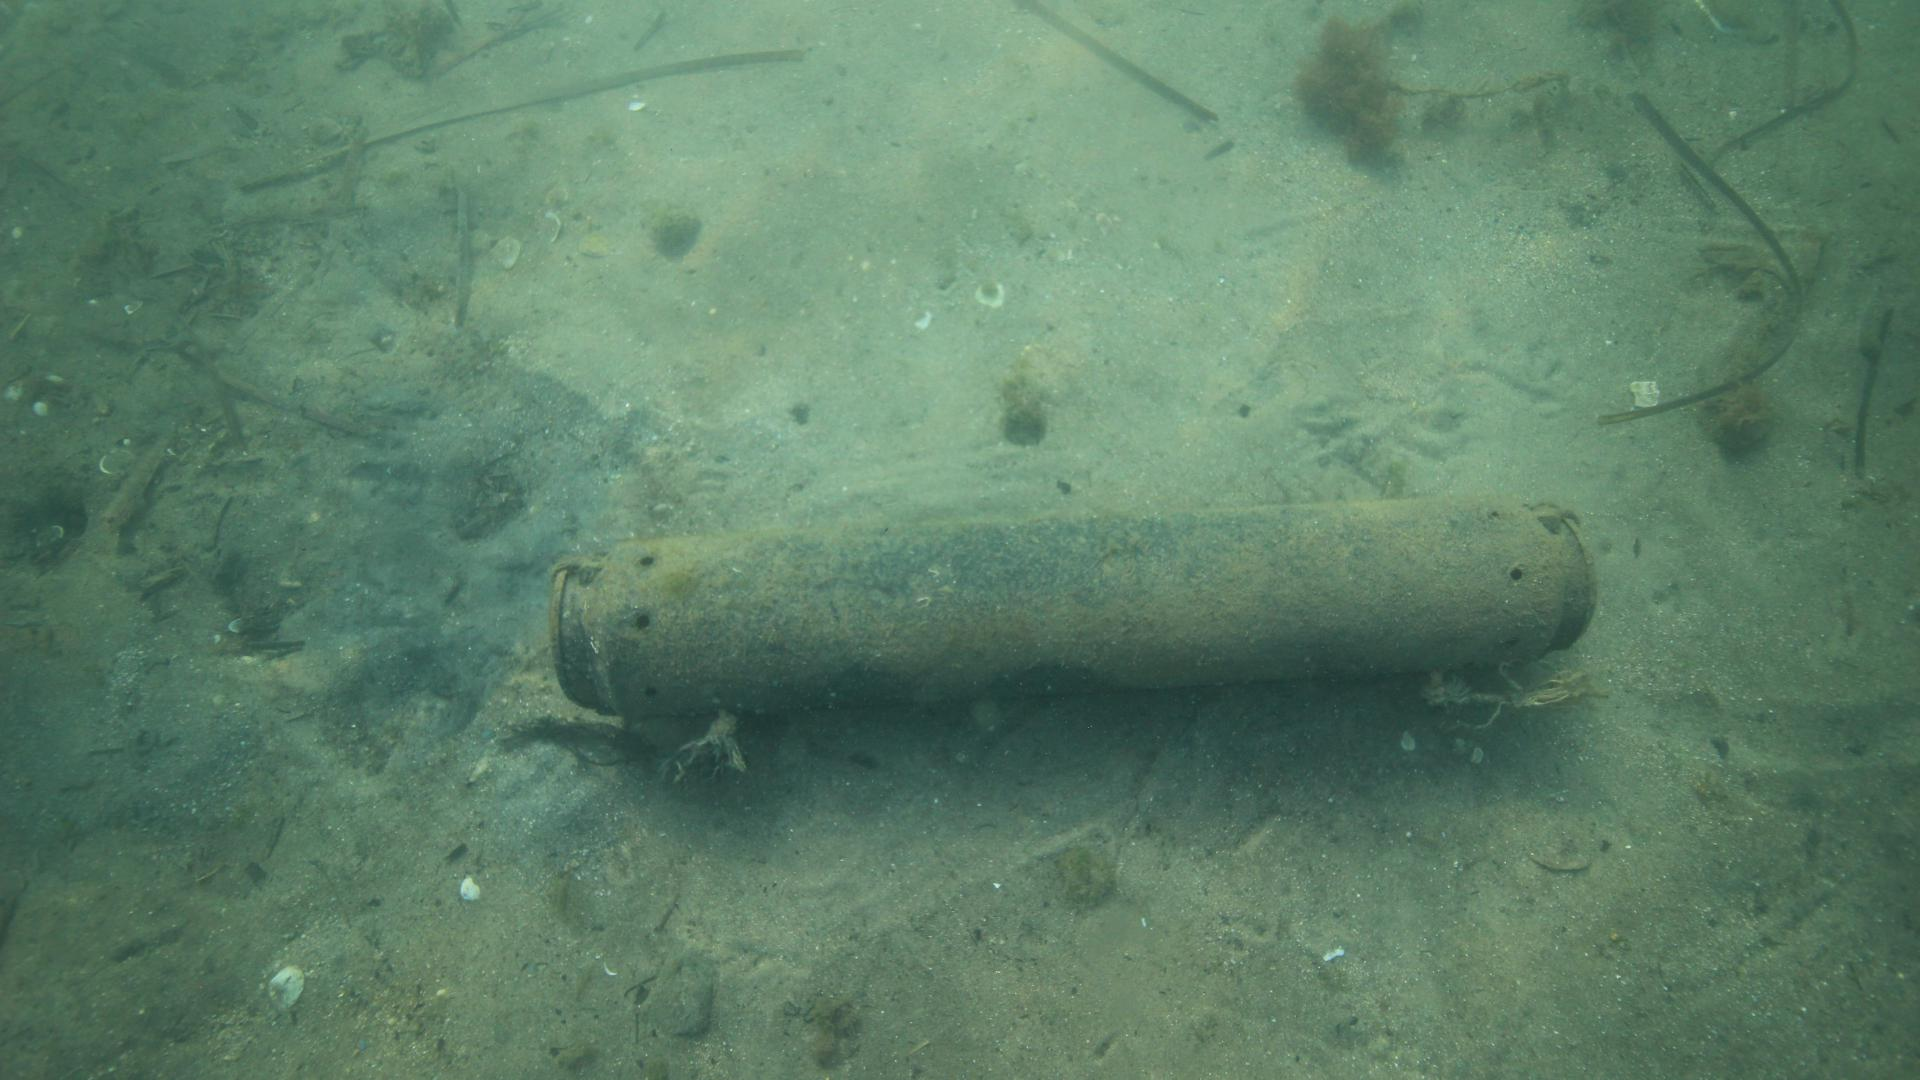eel fish trap: (542, 488, 1602, 731)
